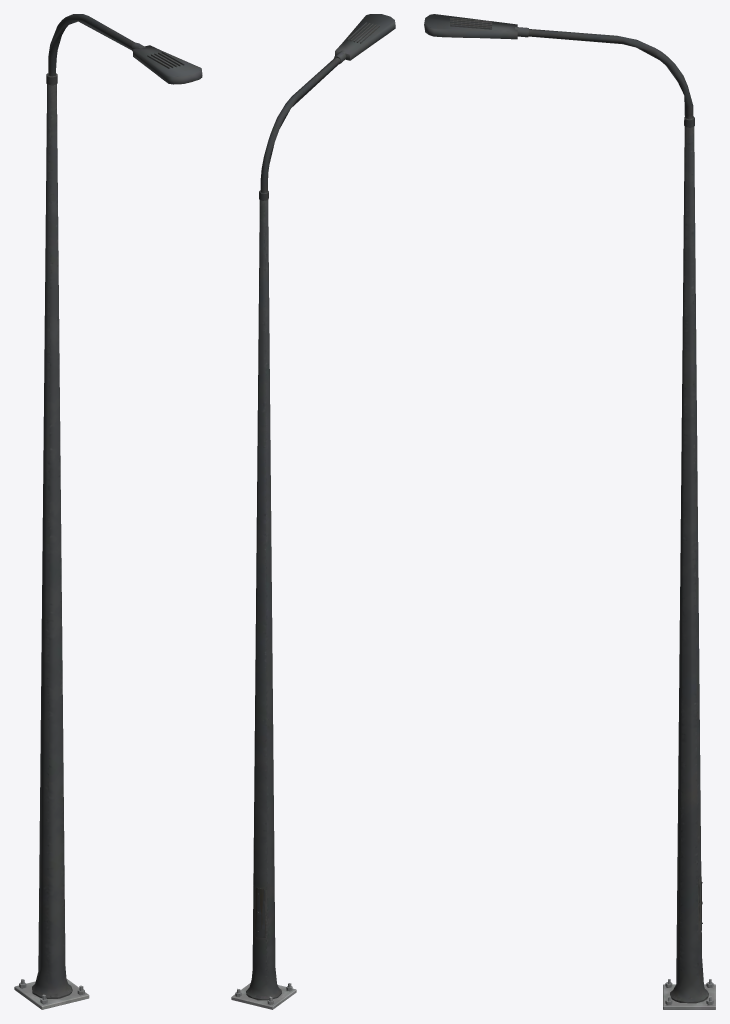
File: street-light.glb
3 views of the same model, side by side, from view 1: azimuth 30°, elevation 25°; view 2: azimuth 150°, elevation 25°; view 3: azimuth 270°, elevation 25° (orthographic). The views are drawn at different scales.
Visible parts, largest first — view 1: street-light_body; view 2: street-light_body; view 3: street-light_body.
Part boxes in pixels (x1,y1,x2,y2): street-light_body: (14, 14, 202, 1009); street-light_body: (231, 14, 395, 1009); street-light_body: (424, 14, 715, 1009).
Size of the model in its own units: 0.4001 by 8.15 by 2.21.
2 materials, 2 textured.
